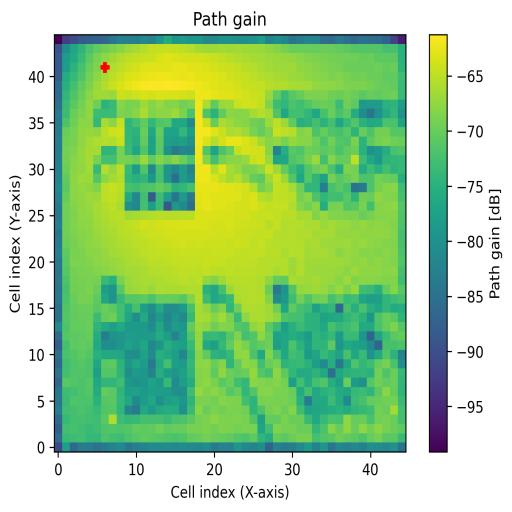Concrete: (296, 97, 376, 212)
Glass: (124, 100, 195, 212)
Metal: (288, 294, 374, 412)
Wood: (118, 295, 196, 415)
